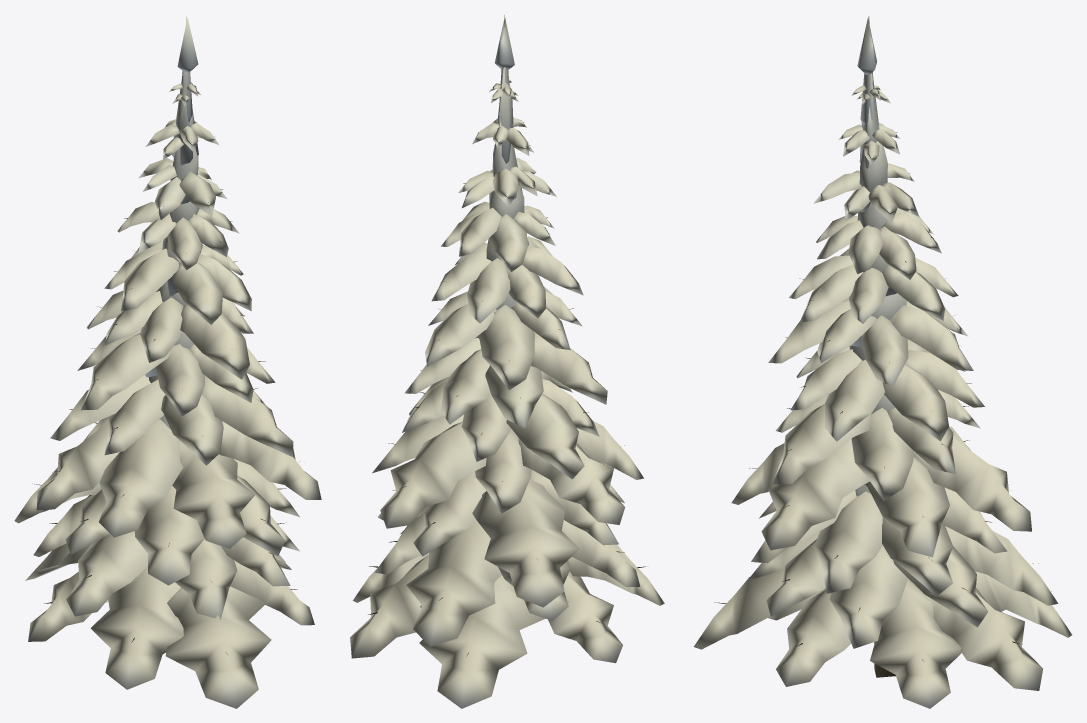
The picture shows the model from 3 angles, left to right: view 1: azimuth 30°, elevation 25°; view 2: azimuth 150°, elevation 25°; view 3: azimuth 270°, elevation 25°; orthographic projection. The views are drawn at different scales.
Visible parts, largest first — view 1: crown; view 2: crown; view 3: crown.
Part boxes in pixels (box(x1,y1,x2,y2)): crown: box(14, 16, 321, 708); crown: box(350, 15, 664, 708); crown: box(693, 16, 1072, 708).
Bounding box in the file's own units: 6.79 × 15.76 × 8.19.
